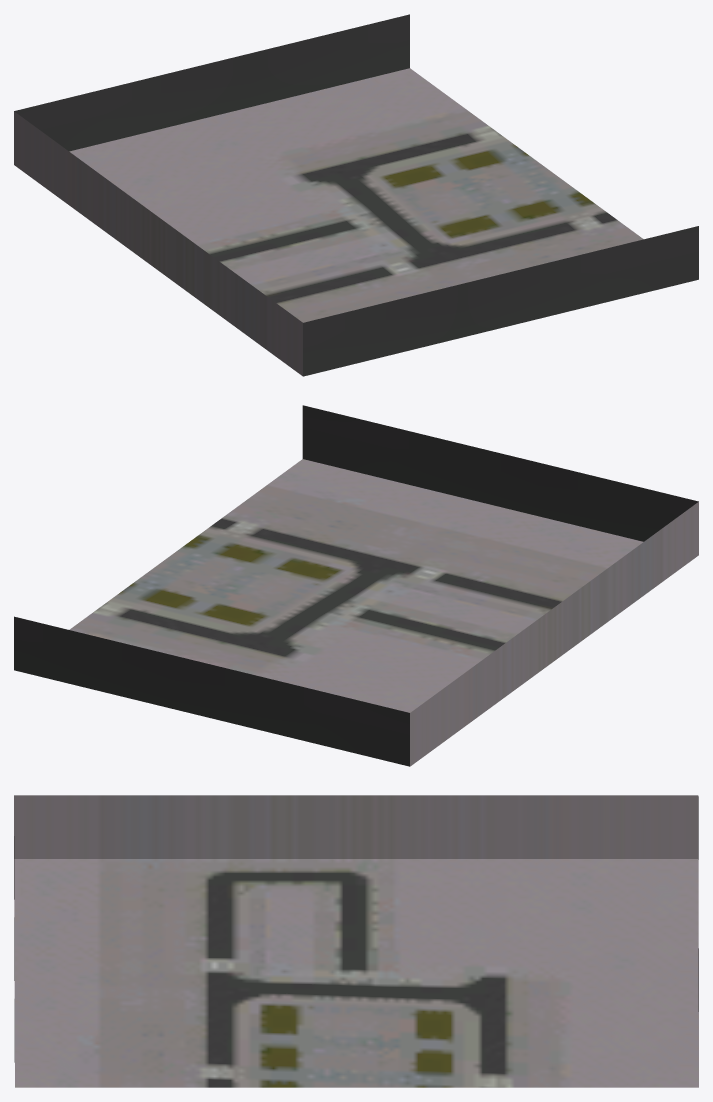
The model's file is lodairprtcut4.obj.
3 views of the same model, one above another, from view 1: azimuth 30°, elevation 25°; view 2: azimuth 150°, elevation 25°; view 3: azimuth 270°, elevation 25° (orthographic). The views are drawn at different scales.
Parts seen in each view (by area): view 1: LODairprtcut4; view 2: LODairprtcut4; view 3: LODairprtcut4.
Part boxes in pixels (box(x1,y1,x2,y2)): LODairprtcut4: box(14, 14, 698, 376); LODairprtcut4: box(14, 405, 698, 766); LODairprtcut4: box(14, 795, 698, 1087).
Size of the model in its own units: 130 by 16.92 by 165.
Materials: 1 (1 with a texture image).
